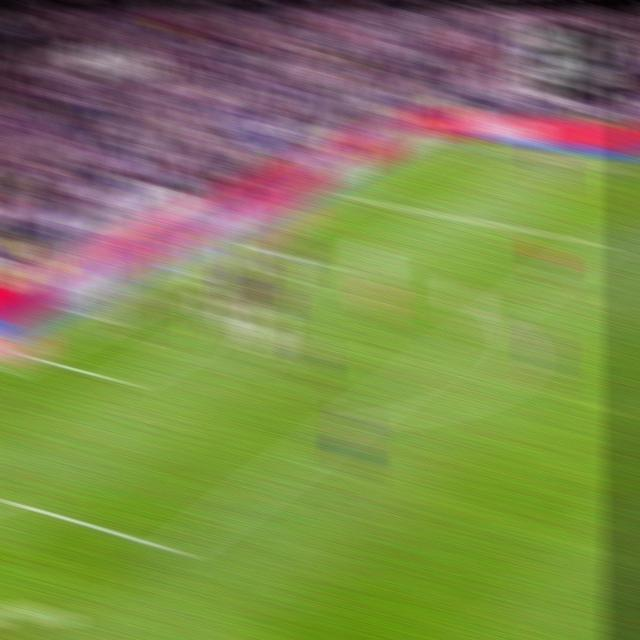bigarea_bottom_inner: (157, 529, 191, 569)
bigarea_top_inner: (587, 228, 614, 255)
bigarea_top_outter: (336, 185, 362, 205)
corner: (437, 134, 465, 151)
smallarea_bottom_outter: (18, 347, 44, 365)
smallarea_top_inner: (315, 250, 343, 277)
top_arc_area_intersection: (485, 301, 512, 326)
